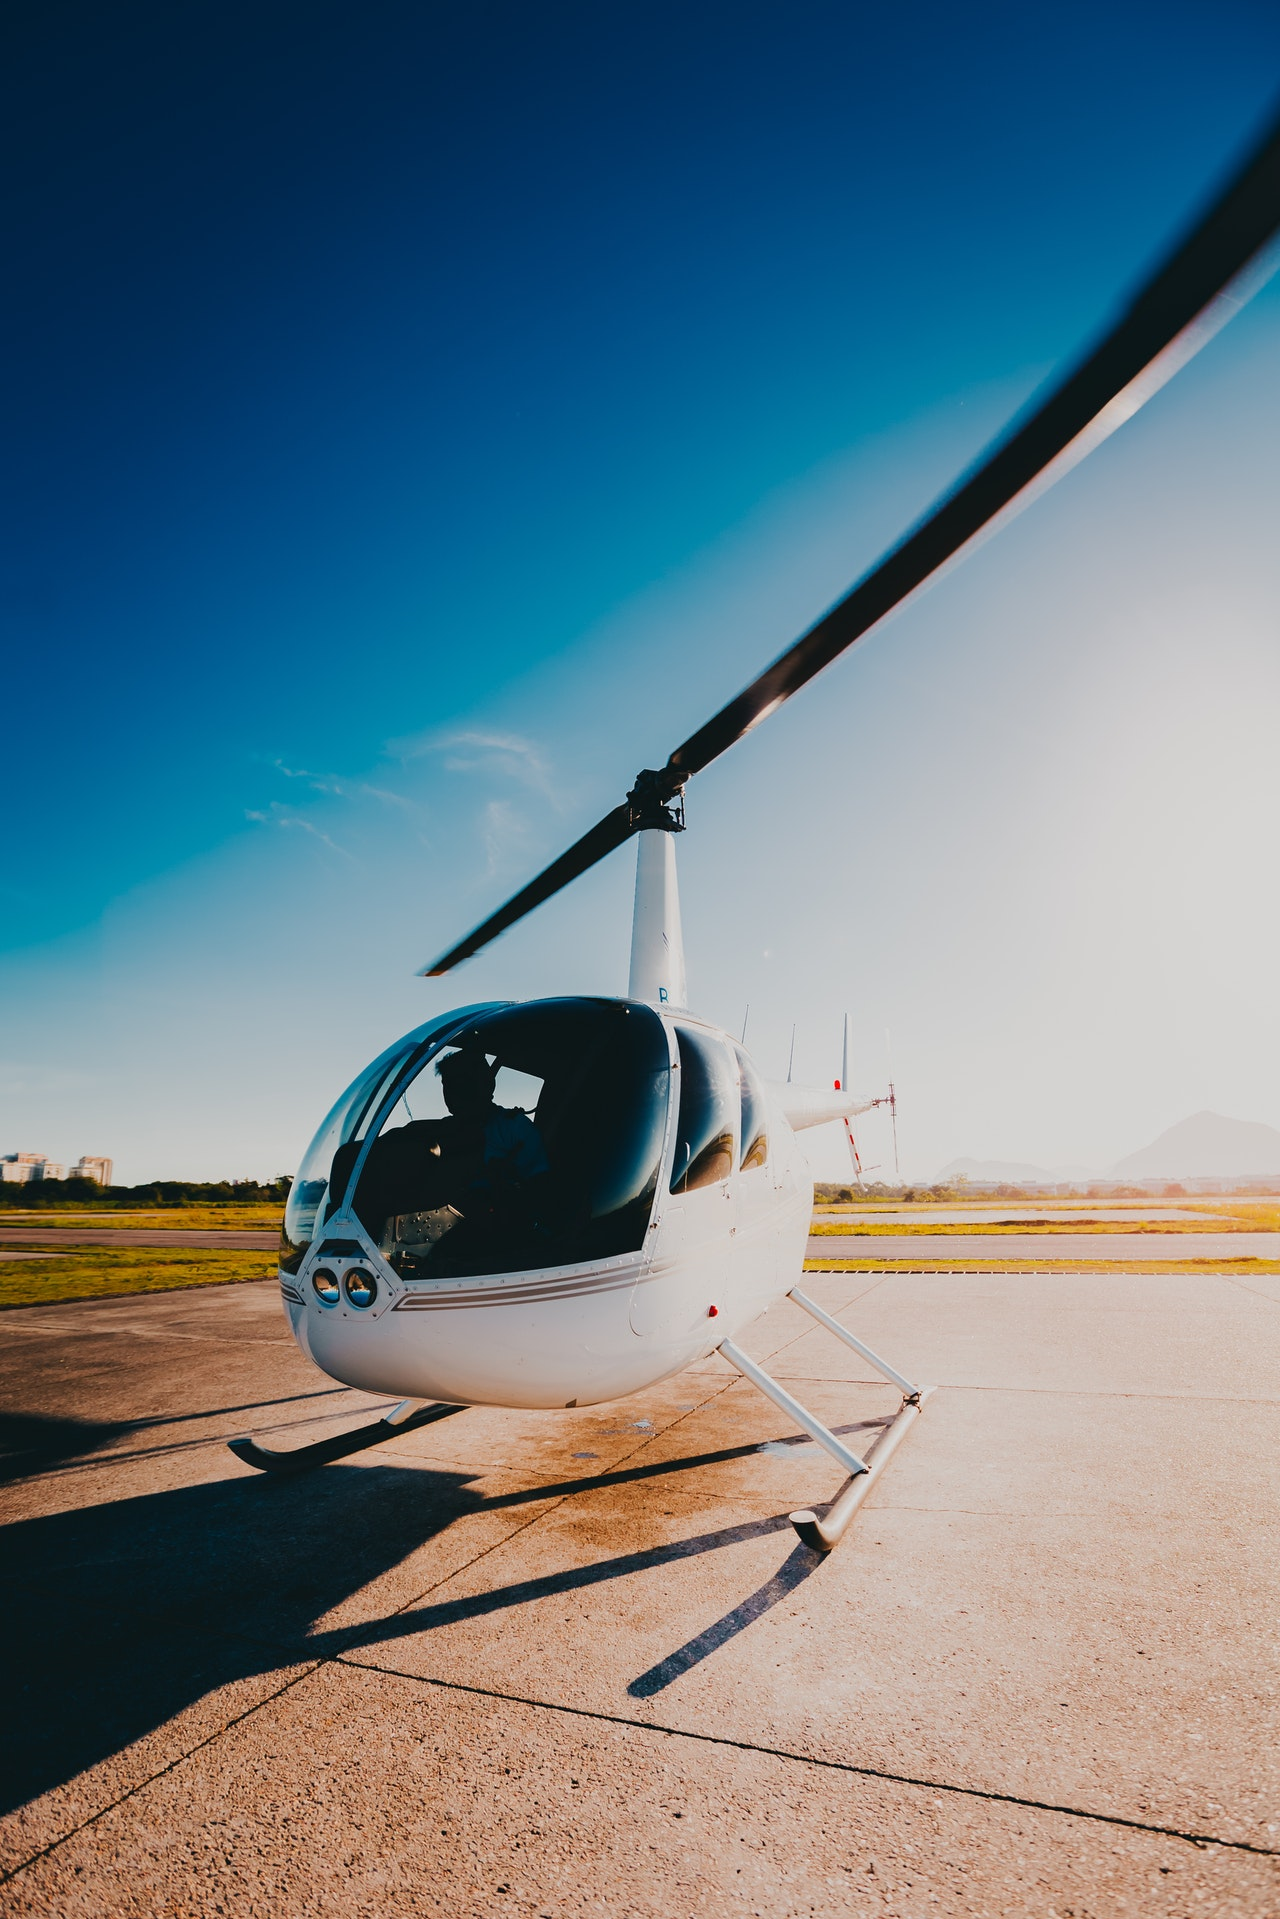heli: (1, 478, 1280, 1559)
